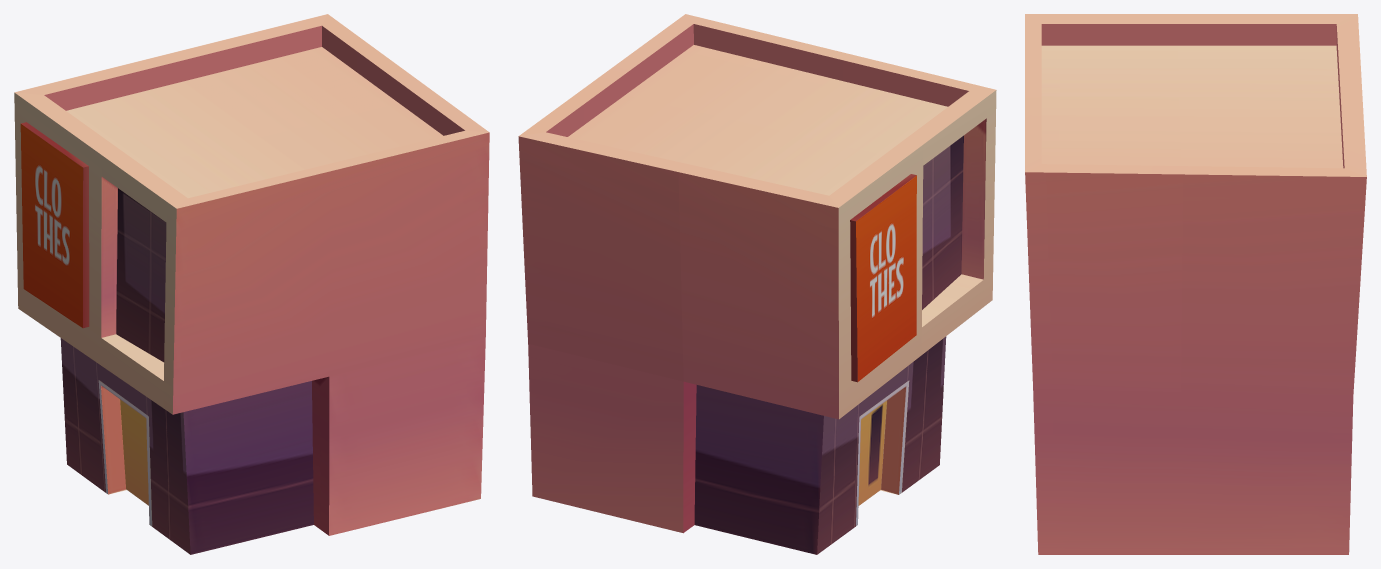
File: city_low_a.glb
3 renders of one model, left to right at view 1: azimuth 30°, elevation 25°; view 2: azimuth 150°, elevation 25°; view 3: azimuth 270°, elevation 25°, orthographic. The views are drawn at different scales.
Visible parts, largest first — view 1: P00; view 2: P00; view 3: P00.
Part boxes in pixels (<box>): P00: <box>14,14,489,554</box>; P00: <box>518,14,996,554</box>; P00: <box>1025,14,1366,554</box>.
Bounding box in the file's own units: 9.9 × 10.83 × 8.74.
Materials: 1 (1 with a texture image).
